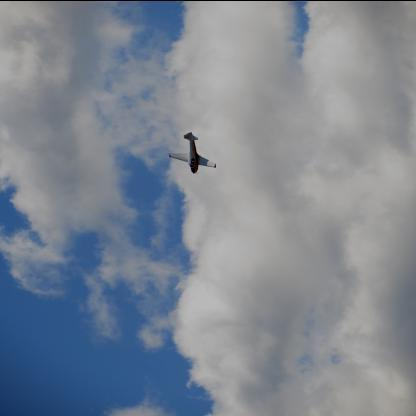aircraft: (169, 132, 217, 174)
